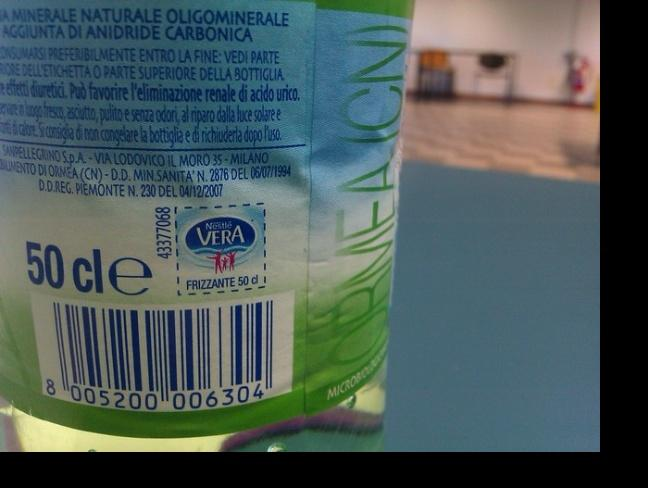Barcode: (37, 296, 281, 410)
